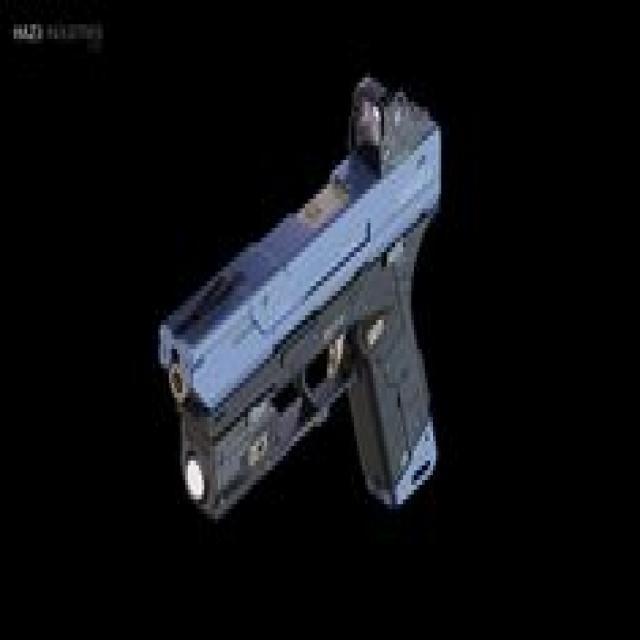semi automatic: (148, 62, 452, 561)
